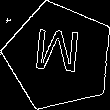M_S: (34, 29, 85, 84)
